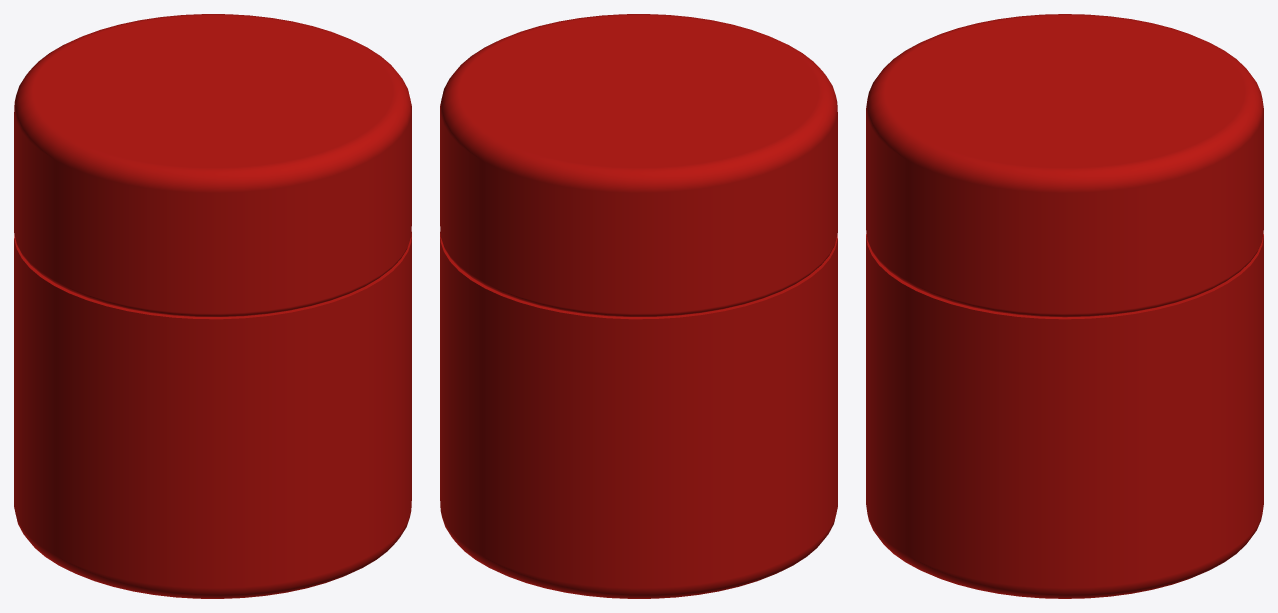
3 views of the same model, side by side, from view 1: azimuth 30°, elevation 25°; view 2: azimuth 150°, elevation 25°; view 3: azimuth 270°, elevation 25° (orthographic).
Parts seen in each view (by area): view 1: ソリッド1; view 2: ソリッド1; view 3: ソリッド1.
Boxes of the visible parts, x1=… form: ソリッド1: x1=14, y1=14, x2=411, y2=598; ソリッド1: x1=440, y1=14, x2=837, y2=598; ソリッド1: x1=866, y1=14, x2=1263, y2=598.
Bounding box in the file's own units: 63 × 75 × 63.
